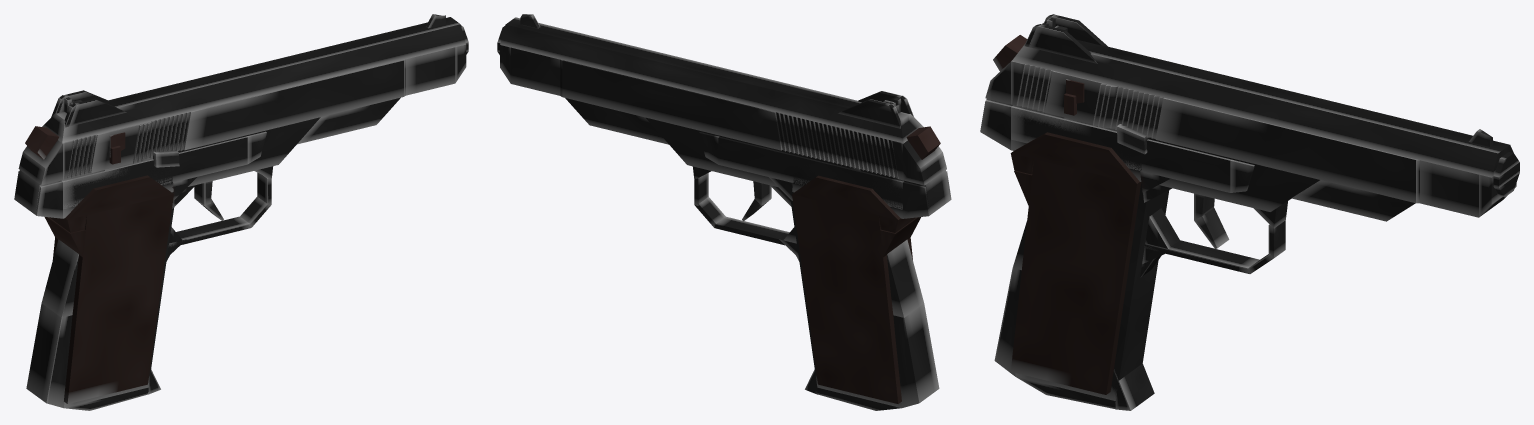
The model's file is aps.obj.
3 renders of one model, left to right at view 1: azimuth 30°, elevation 25°; view 2: azimuth 150°, elevation 25°; view 3: azimuth 330°, elevation 25°, orthographic. The views are drawn at different scales.
Visible parts, largest first — view 1: gunModel25, slideModel2, slideModel0, gunModel20, gunModel6, gunModel0, gunModel26, gunModel5, slideModel3, gunModel3, gunModel22, slideModel1 (+12 smaller); view 2: gunModel25, slideModel2, slideModel0, gunModel20, gunModel6, gunModel0, gunModel26, gunModel5, slideModel3, gunModel3, slideModel1, gunModel22 (+10 smaller); view 3: gunModel25, slideModel2, slideModel0, gunModel4, gunModel20, gunModel0, gunModel26, slideModel3, gunModel3, gunModel22, slideModel13, gunModel12 (+14 smaller).
Part boxes in pixels (x1=…): gunModel25: x1=52, y1=194, x2=173, y2=403; slideModel2: x1=42, y1=17, x2=465, y2=142; slideModel0: x1=183, y1=60, x2=403, y2=150; gunModel20: x1=62, y1=136, x2=247, y2=209; gunModel6: x1=26, y1=303, x2=72, y2=407; gunModel0: x1=105, y1=117, x2=320, y2=186; gunModel26: x1=65, y1=175, x2=173, y2=219; gunModel5: x1=41, y1=239, x2=78, y2=317; slideModel3: x1=405, y1=47, x2=455, y2=95; gunModel3: x1=297, y1=97, x2=400, y2=144; gunModel22: x1=63, y1=160, x2=173, y2=218; slideModel1: x1=18, y1=140, x2=62, y2=185; gunModel25: x1=792, y1=194, x2=912, y2=403; slideModel2: x1=500, y1=17, x2=923, y2=143; slideModel0: x1=562, y1=60, x2=782, y2=150; gunModel20: x1=718, y1=137, x2=903, y2=209; gunModel6: x1=893, y1=303, x2=939, y2=407; gunModel0: x1=646, y1=117, x2=860, y2=186; gunModel26: x1=792, y1=175, x2=900, y2=219; gunModel5: x1=887, y1=239, x2=923, y2=317; slideModel3: x1=511, y1=47, x2=560, y2=95; gunModel3: x1=565, y1=98, x2=668, y2=144; slideModel1: x1=903, y1=140, x2=946, y2=185; gunModel22: x1=792, y1=161, x2=902, y2=218; gunModel25: x1=1010, y1=159, x2=1141, y2=394; slideModel2: x1=1012, y1=39, x2=1513, y2=177; slideModel0: x1=1155, y1=98, x2=1416, y2=203; gunModel4: x1=1015, y1=183, x2=1169, y2=400; gunModel20: x1=1011, y1=106, x2=1231, y2=192; gunModel0: x1=1064, y1=117, x2=1319, y2=211; gunModel26: x1=1011, y1=132, x2=1139, y2=183; slideModel3: x1=1420, y1=160, x2=1478, y2=217; gunModel3: x1=1291, y1=180, x2=1415, y2=221; gunModel22: x1=1011, y1=107, x2=1141, y2=181; slideModel13: x1=1044, y1=70, x2=1117, y2=127; gunModel12: x1=1145, y1=241, x2=1259, y2=273.
Bounding box in the file's own units: 10 × 6.73 × 1.1.
